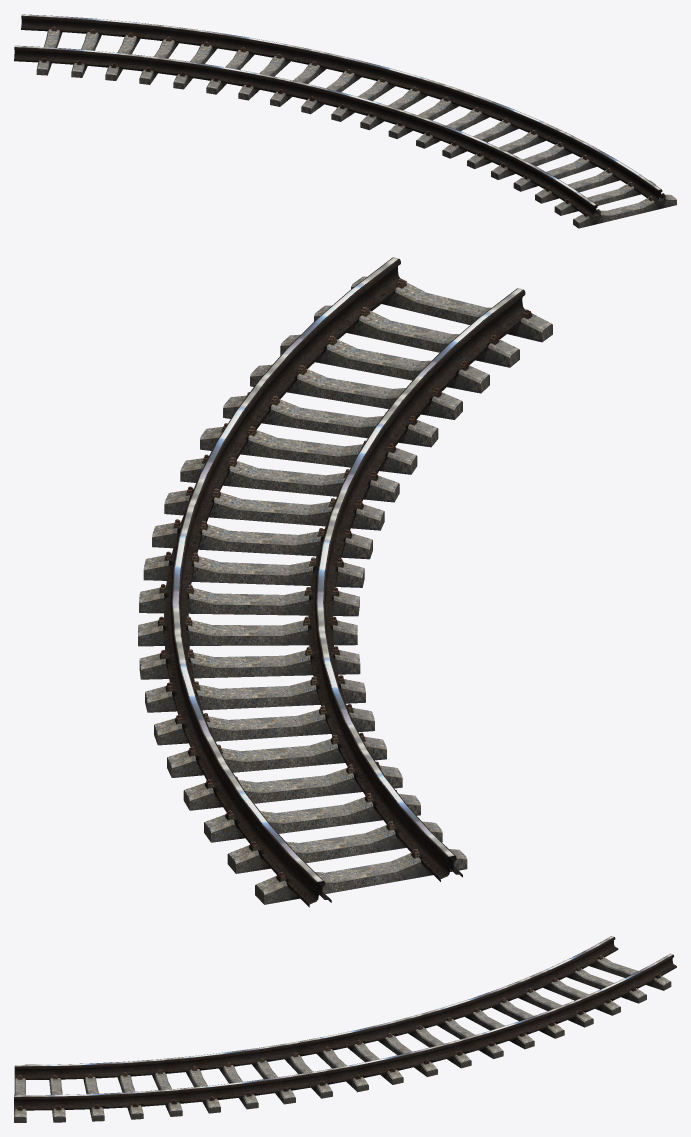
The model's file is Beton_rail_55.FBX.
3 views of the same model, one above another, from view 1: azimuth 30°, elevation 25°; view 2: azimuth 150°, elevation 25°; view 3: azimuth 270°, elevation 25° (orthographic). The views are drawn at different scales.
Visible parts, largest first — view 1: Beton_rail_55_LOD0; view 2: Beton_rail_55_LOD0; view 3: Beton_rail_55_LOD0.
Part boxes in pixels (bbox=[...]): Beton_rail_55_LOD0: bbox=[14, 14, 676, 228]; Beton_rail_55_LOD0: bbox=[138, 257, 552, 907]; Beton_rail_55_LOD0: bbox=[14, 936, 676, 1122].
Size of what is drawn, in the model's own units: 9.19 by 15.22 by 0.4774.
